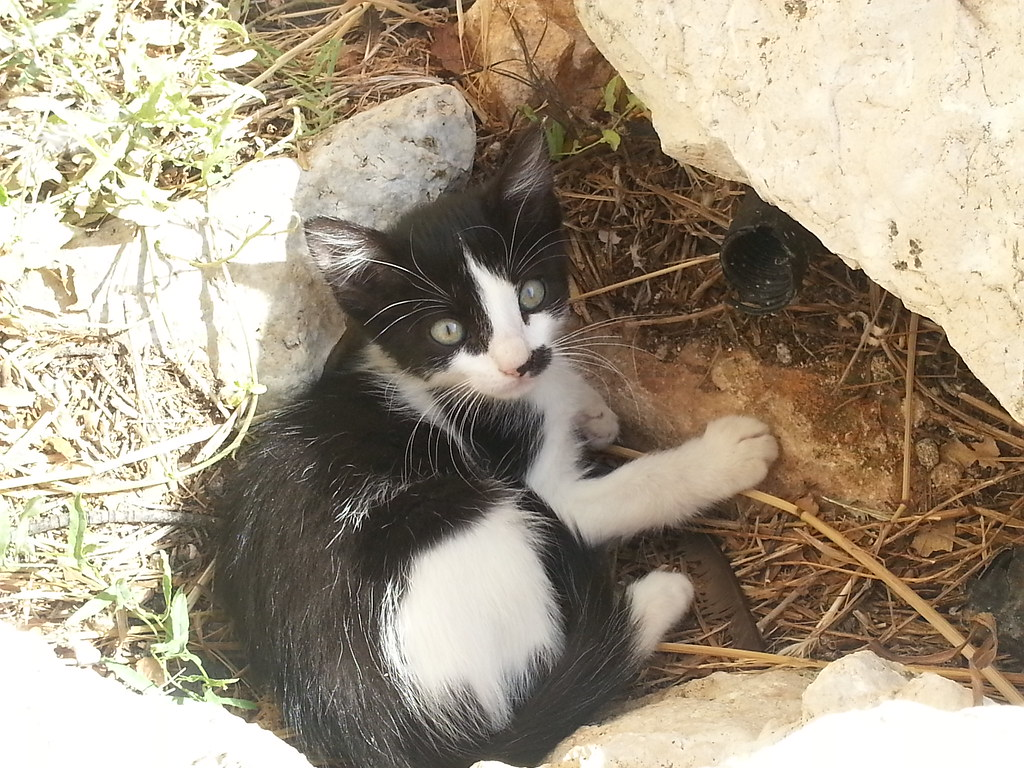cat: (183, 106, 807, 765)
